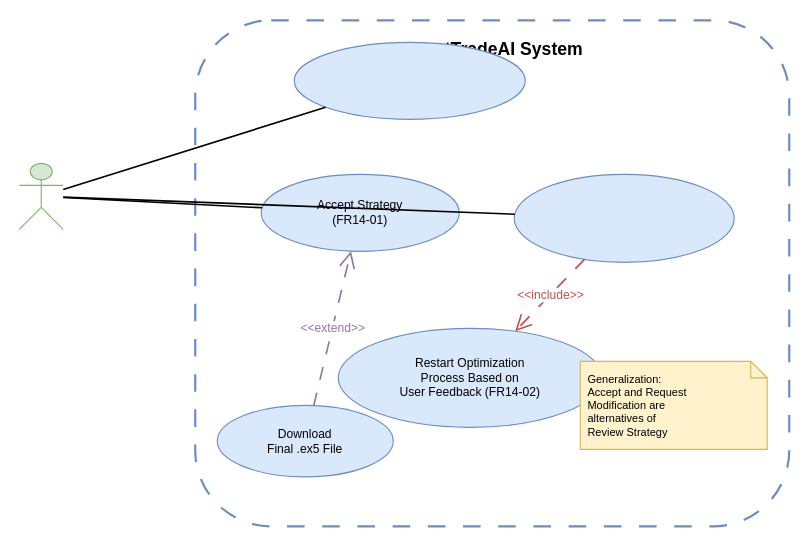
Image size: 810x546. Some labels were removed from this diagram. The shapes that lost their labels are listed below. From the top down, each one's centre as x and y in pixels, then its label:
At point (409, 80): "Review Generated Strategy Results".
At point (40, 195): "Trader".
At point (623, 217): "Request Strategy Modification (FR14-01)".
